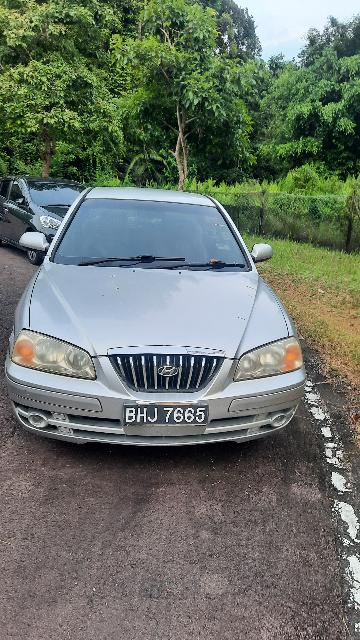License_Plate: (118, 402, 214, 429)
car: (4, 183, 310, 449)
